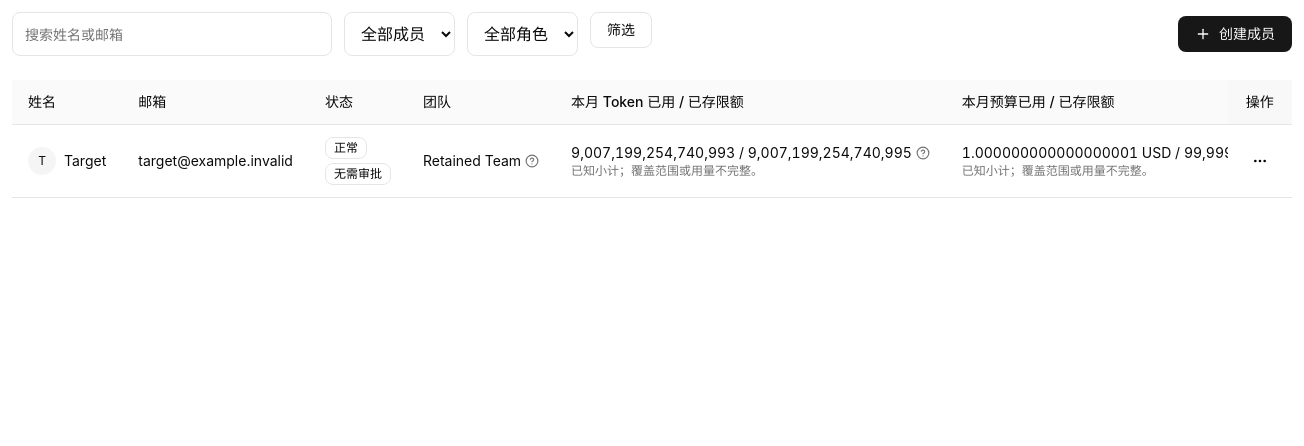
Scenario: translates columns, unknown facts and menu live without making another list request
Click the button named "Target 的成员操作" at (1260, 161), box [1244,145,1276,177]
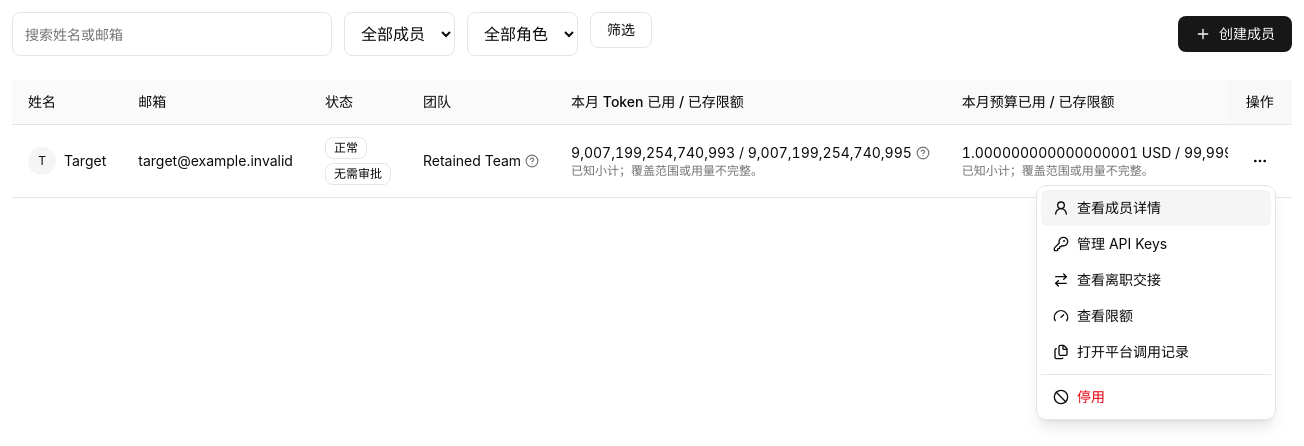
Expected: the menu shows "打开平台调用记录", [1077,343,1189,360]
